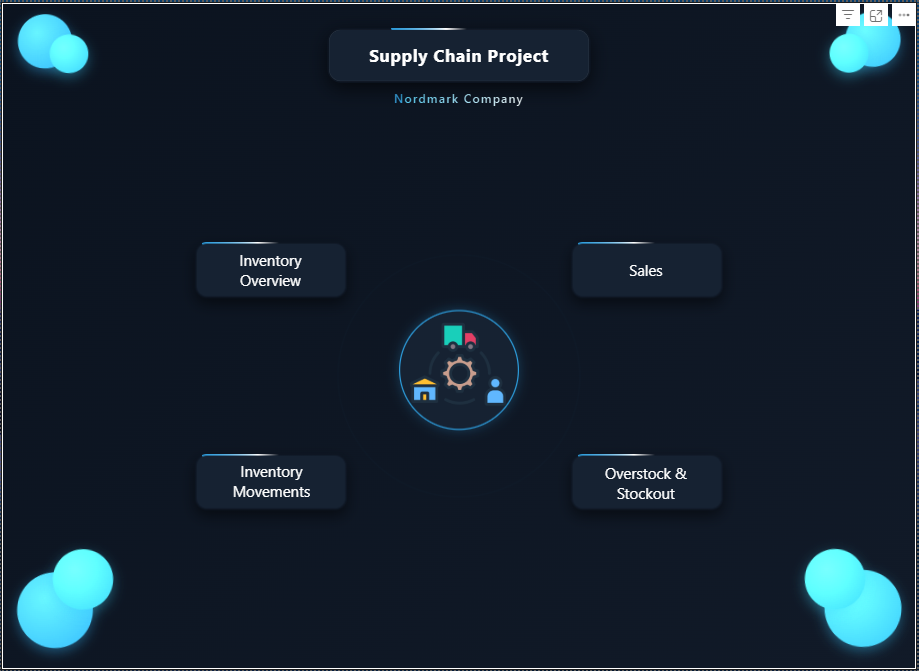

Layout of this report page (visuals, bound fields, positions):
{"tool":"powerbi","page":{"name":"Home Page","canvas":[2290,1670],"ordinal":0},"visuals":[{"type":"htmlContent443BE3AD55E043BF878BED274D3A6855","fields":{"content":["A Measures.Interactive_SupplyChain_Dashboard"]},"box":[0,0,2290,1670],"z":0},{"type":"image","box":[1005,765,275,280],"z":1000},{"type":"shape","box":[507.5,610,332.5,117.5],"z":2000},{"type":"shape","box":[1442.5,1132.5,340,137.5],"z":3000},{"type":"shape","box":[1442.5,610,340,117.5],"z":4000},{"type":"shape","box":[492.5,1135,367.5,125],"z":5000}]}

Visuals, with their boxes in screenshot pixels (x1, y1, x2, y2):
htmlContent443BE3AD55E043BF878BED274D3A6855 - A Measures.Interactive_SupplyChain_Dashboard: (2, 0, 909, 661)
image: (400, 303, 509, 414)
shape: (203, 241, 335, 288)
shape: (573, 448, 708, 503)
shape: (573, 241, 708, 288)
shape: (197, 449, 343, 499)
